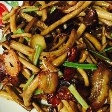chashugu: (0, 0, 112, 112)
